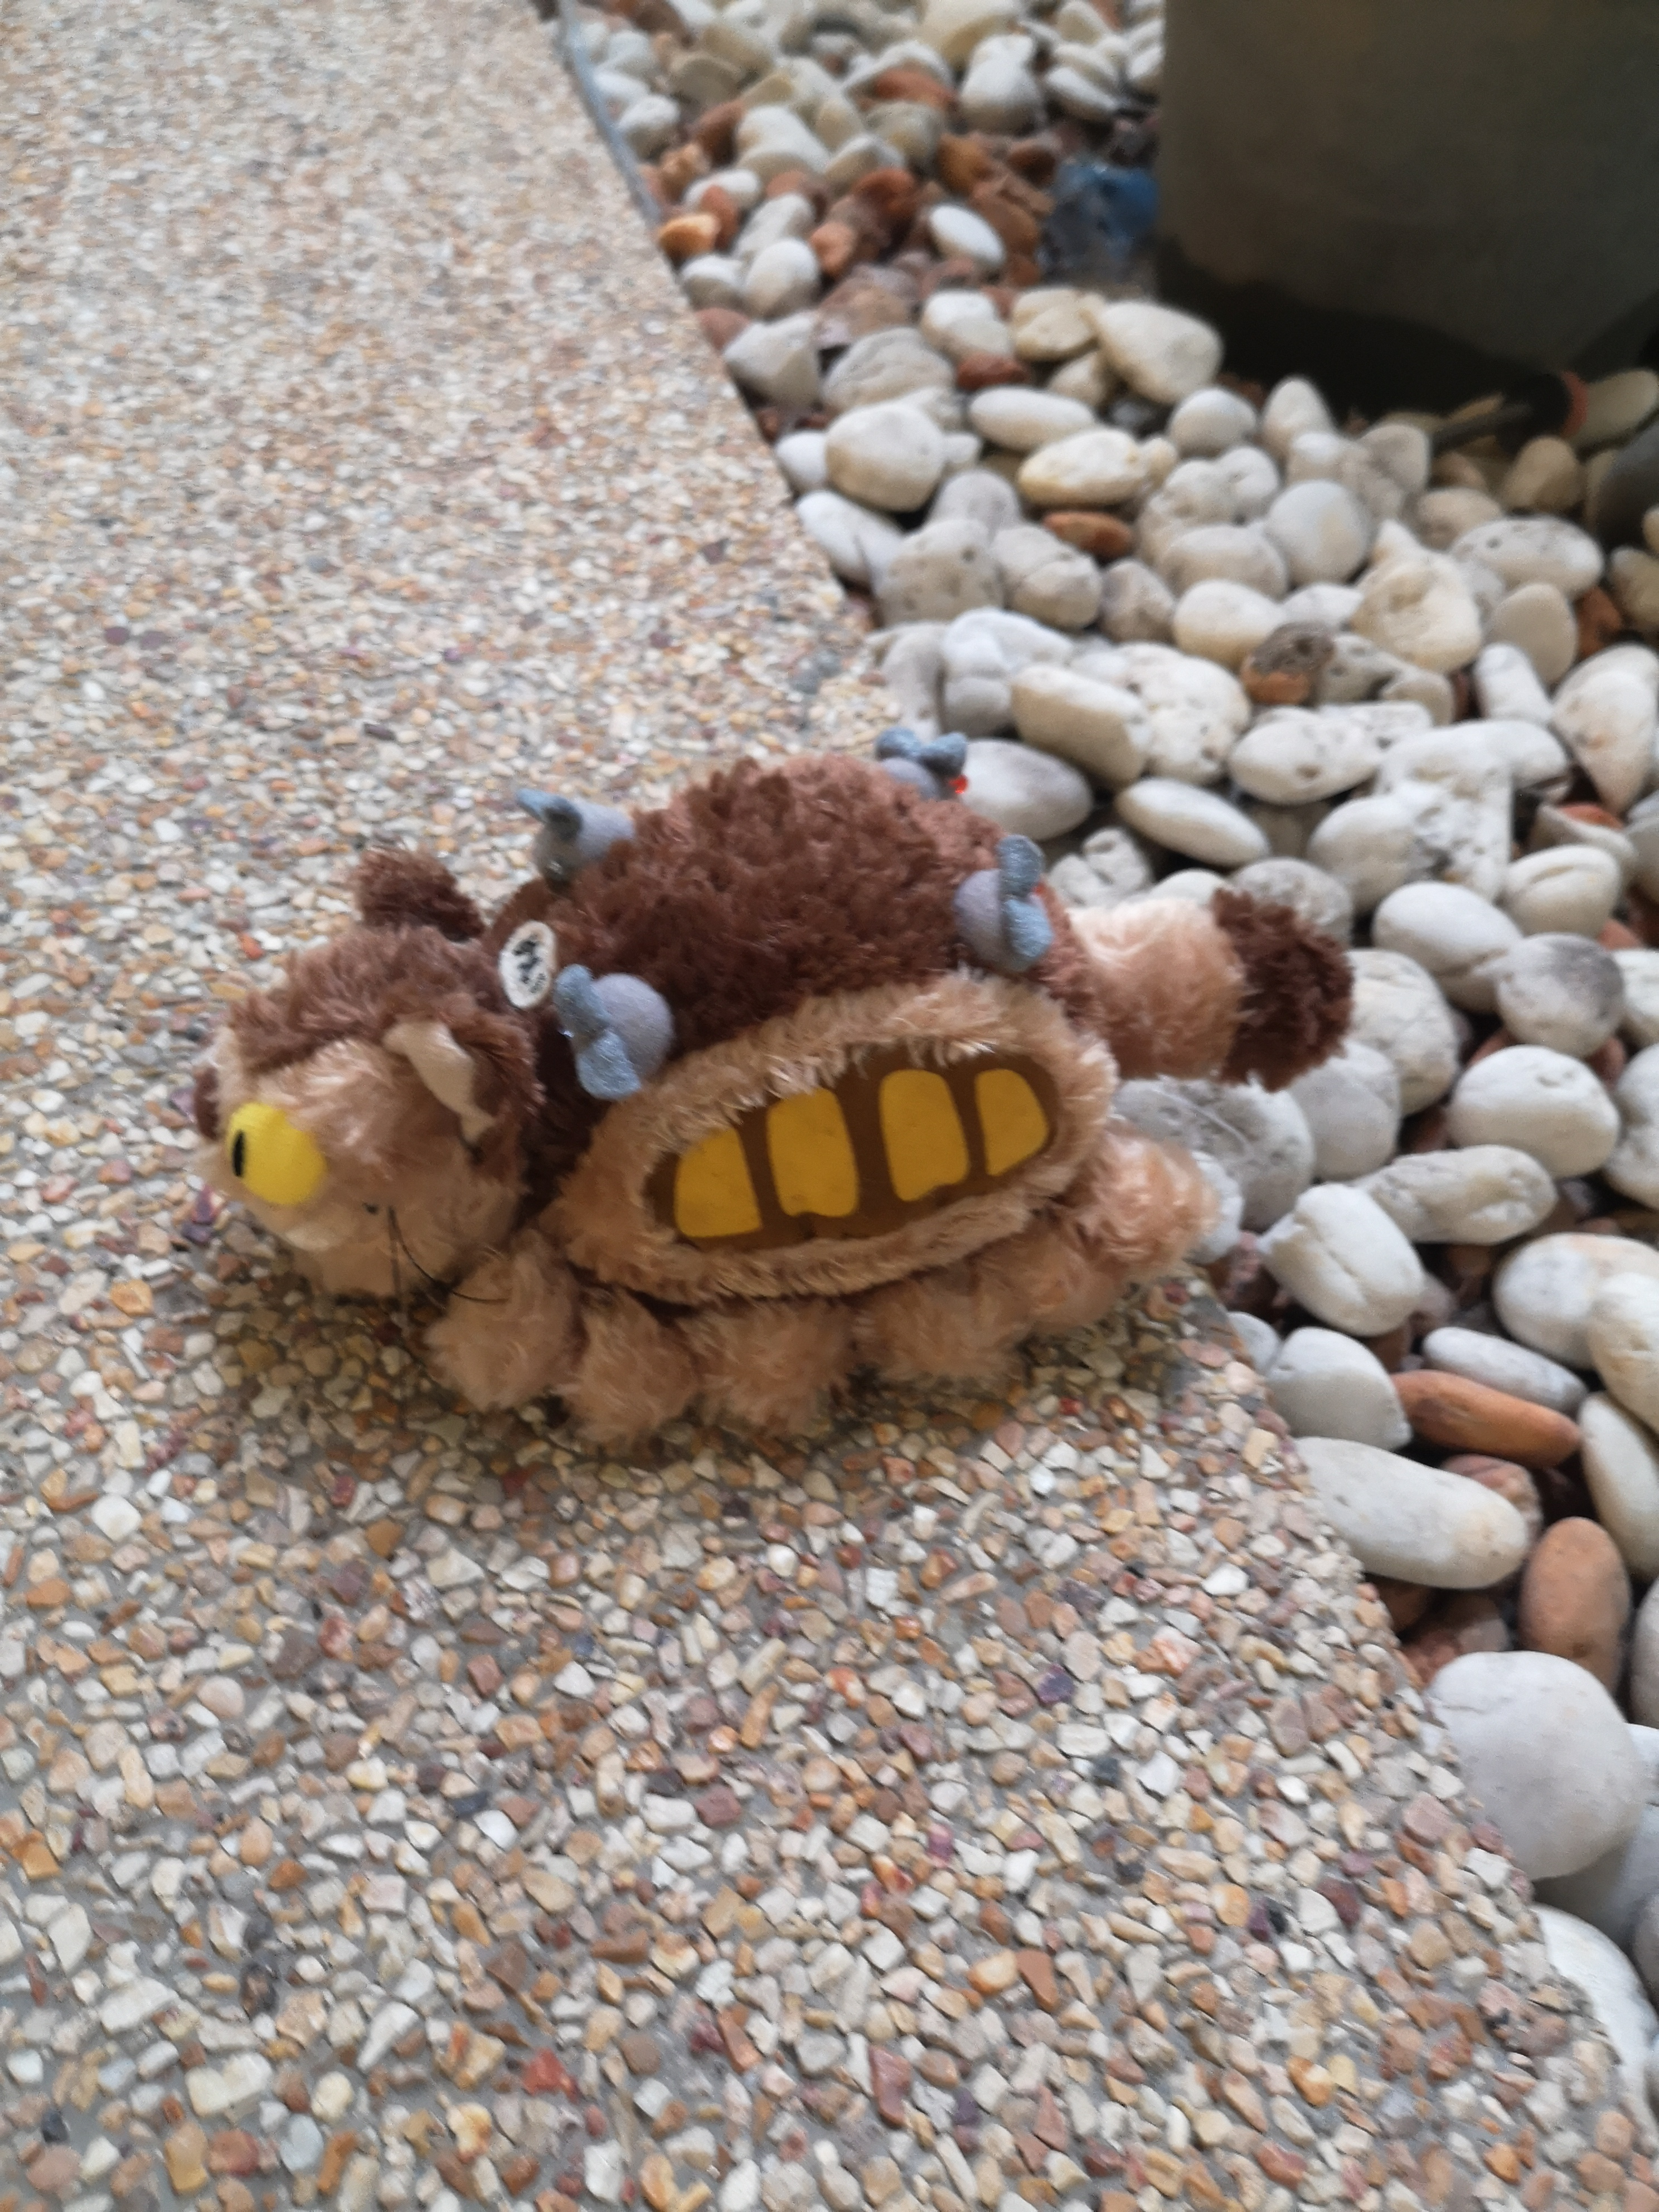nekobus: (173, 716, 1364, 1477)
